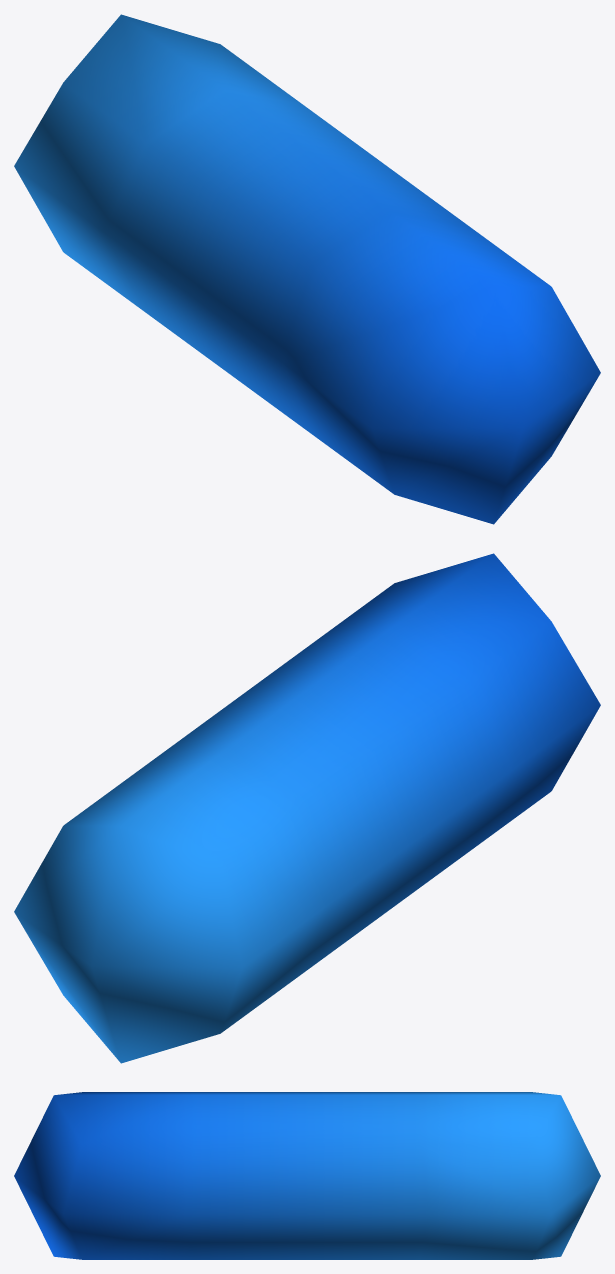
Rendered from CartoonFont_I.FBX.
3 renders of one model, top to bottom at view 1: azimuth 30°, elevation 25°; view 2: azimuth 150°, elevation 25°; view 3: azimuth 270°, elevation 25°, orthographic. The views are drawn at different scales.
Parts seen in each view (by area): view 1: I; view 2: I; view 3: I.
Boxes of the visible parts, x1,y1,x2,y2 form: I: [14, 14, 600, 524]; I: [14, 553, 600, 1063]; I: [14, 1092, 600, 1259].
Size of the model in its own units: 9.66 by 9.59 by 31.59.
1 material, 1 textured.
